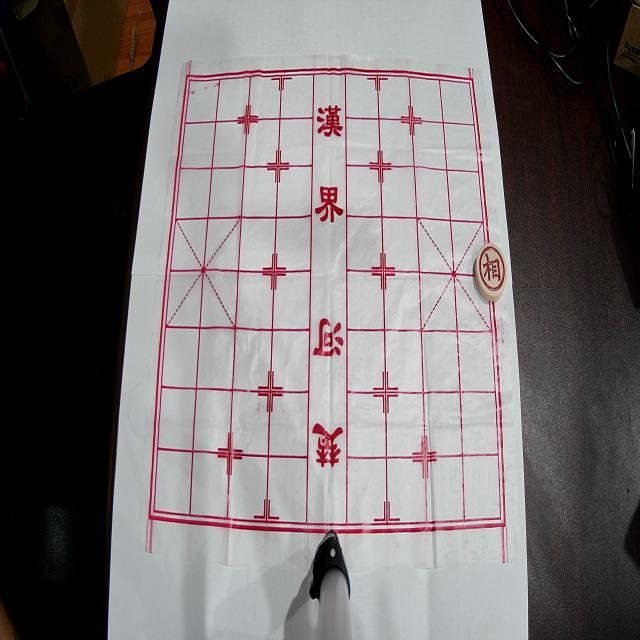red-elephant: (474, 243, 508, 301)
